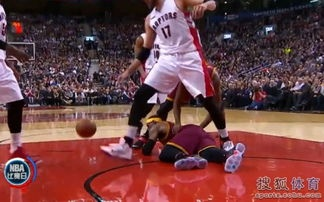falling: (133, 109, 251, 175)
